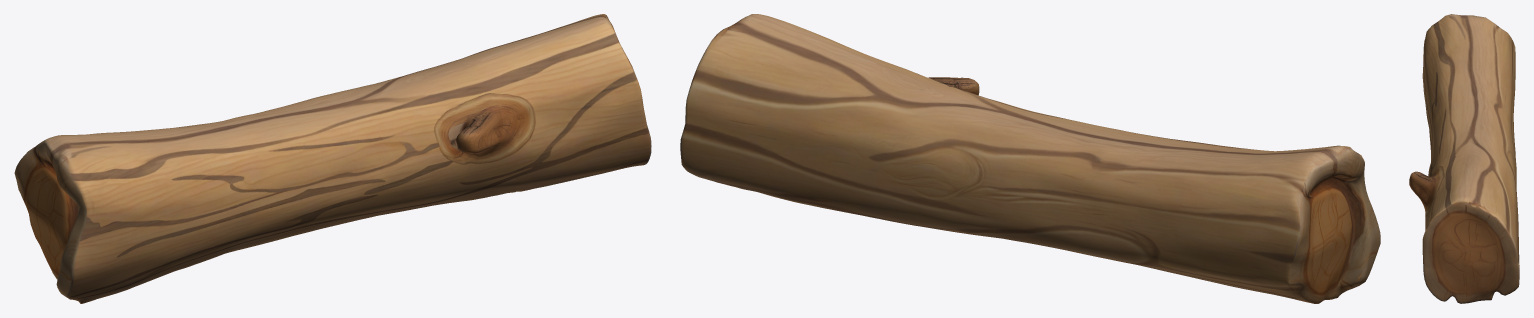
The model's file is Log_Illustration_0512161915_texture.glb.
3 views of the same model, side by side, from view 1: azimuth 30°, elevation 25°; view 2: azimuth 150°, elevation 25°; view 3: azimuth 270°, elevation 25° (orthographic). The views are drawn at different scales.
Bounding box in the file's own units: 2 × 0.4902 × 0.4769.
1 material, 1 textured.
